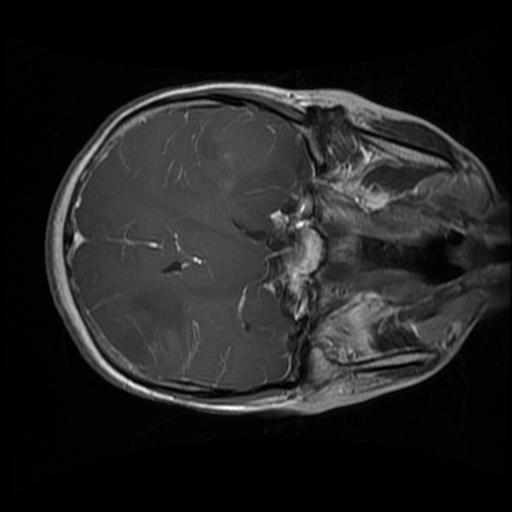glioma: (130, 290, 184, 343)
